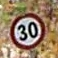limite 30: (8, 10, 46, 49)
